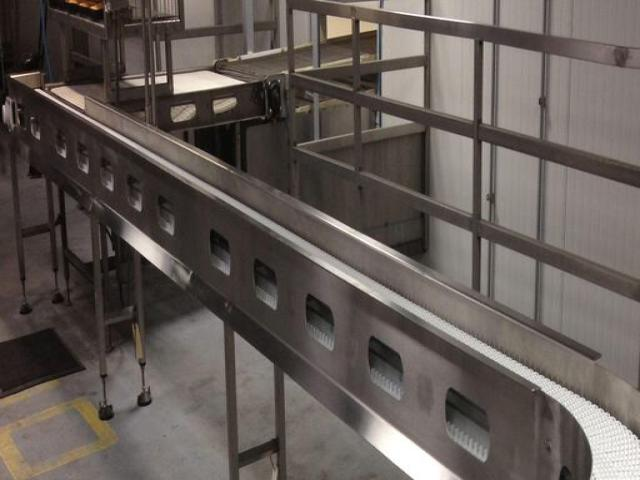conveyor: (16, 68, 640, 480)
